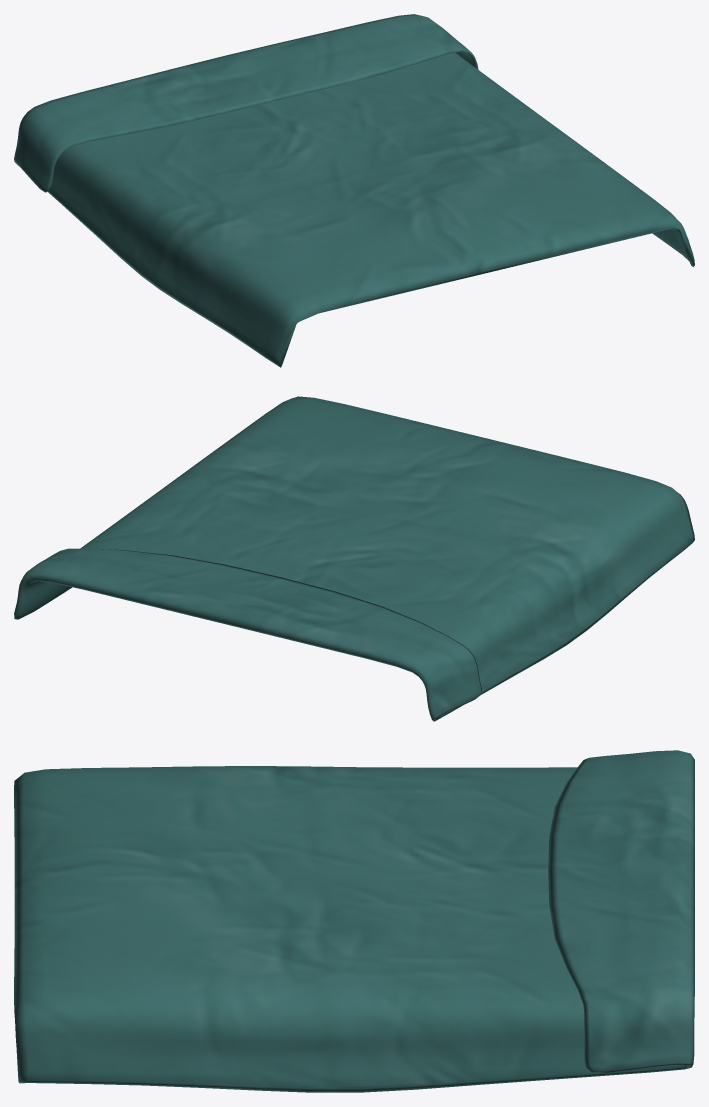
The model's file is eichhron_platform.fbx.
3 views of the same model, one above another, from view 1: azimuth 30°, elevation 25°; view 2: azimuth 150°, elevation 25°; view 3: azimuth 270°, elevation 25° (orthographic). The views are drawn at different scales.
Visible parts, largest first — view 1: eichhron_platform; view 2: eichhron_platform; view 3: eichhron_platform.
Boxes of the visible parts, bbox=[...] form: eichhron_platform: bbox=[14, 14, 694, 367]; eichhron_platform: bbox=[14, 396, 694, 721]; eichhron_platform: bbox=[14, 750, 694, 1092].
Size of the model in its own units: 1.95 by 0.3263 by 2.06.
